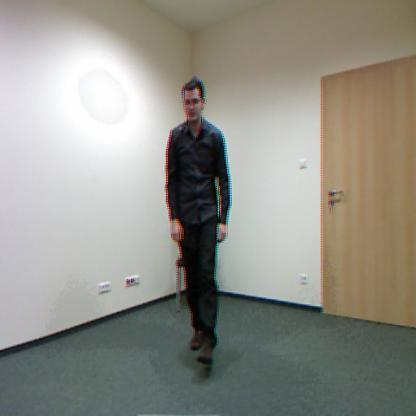normal: (171, 76, 237, 372)
